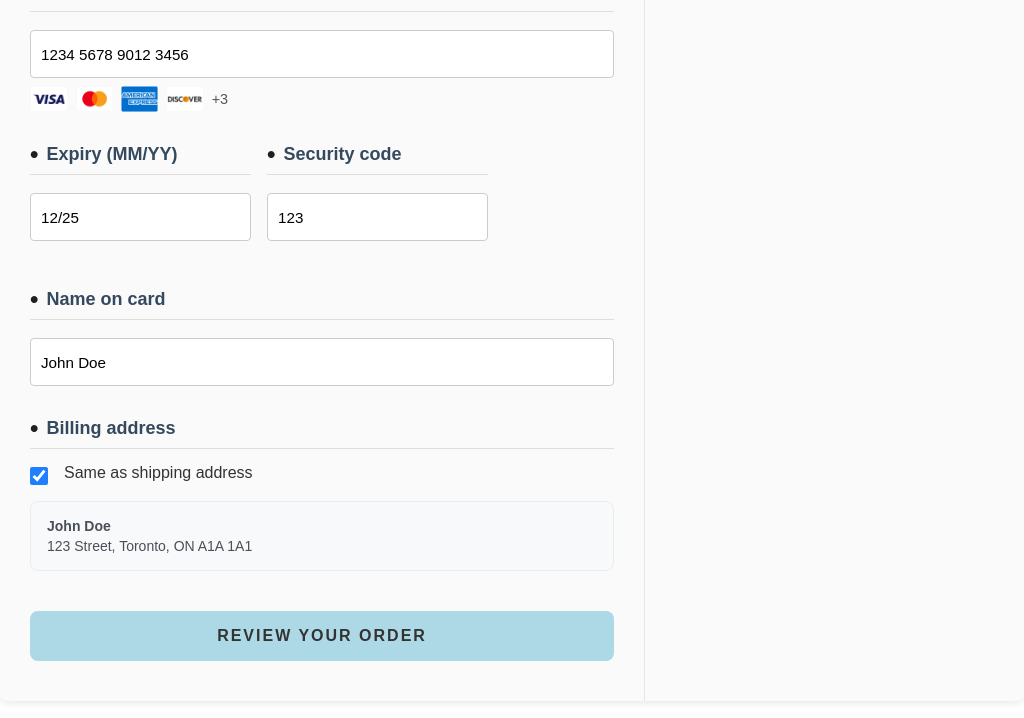
Test: toggles billing address fields when 'Same as shipping' unchecked
(page scrolled)
Step 1. Click the checkbox labelled "Same as shipping address" → click(39, 476), box [30,467,48,485]
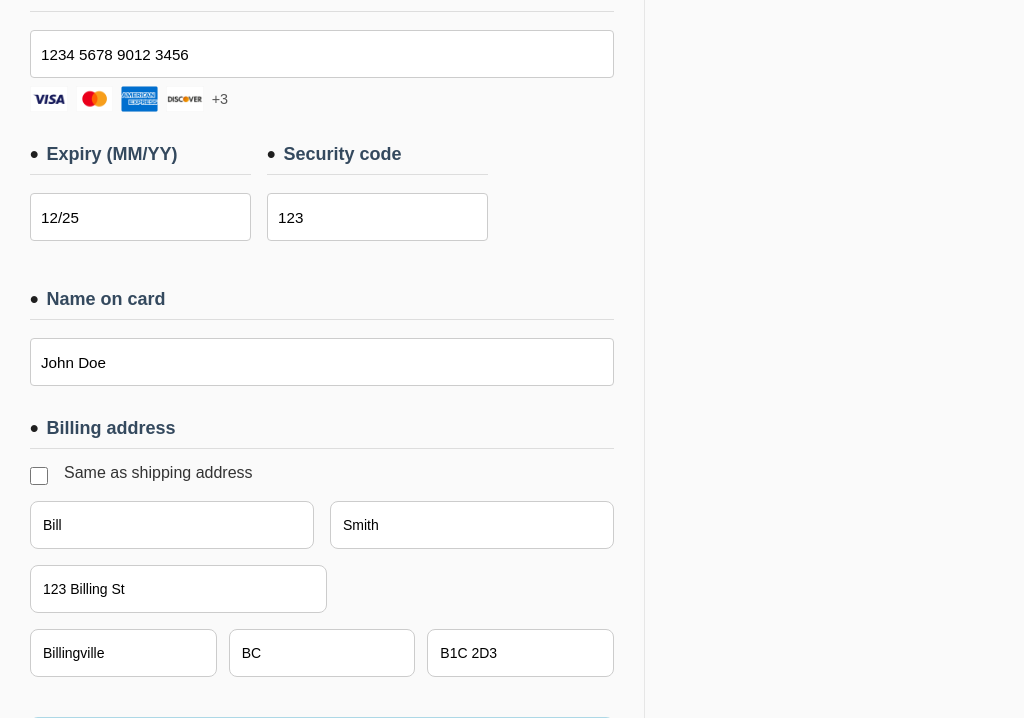
Check: the 5th field with placeholder "First name" is shown, box [30,501,314,549]
Check: the 6th field with placeholder "Last name" is shown, box [330,501,614,549]
Check: the 7th field with placeholder "Address (apt, suite, etc.)" is shown, box [30,565,327,613]
